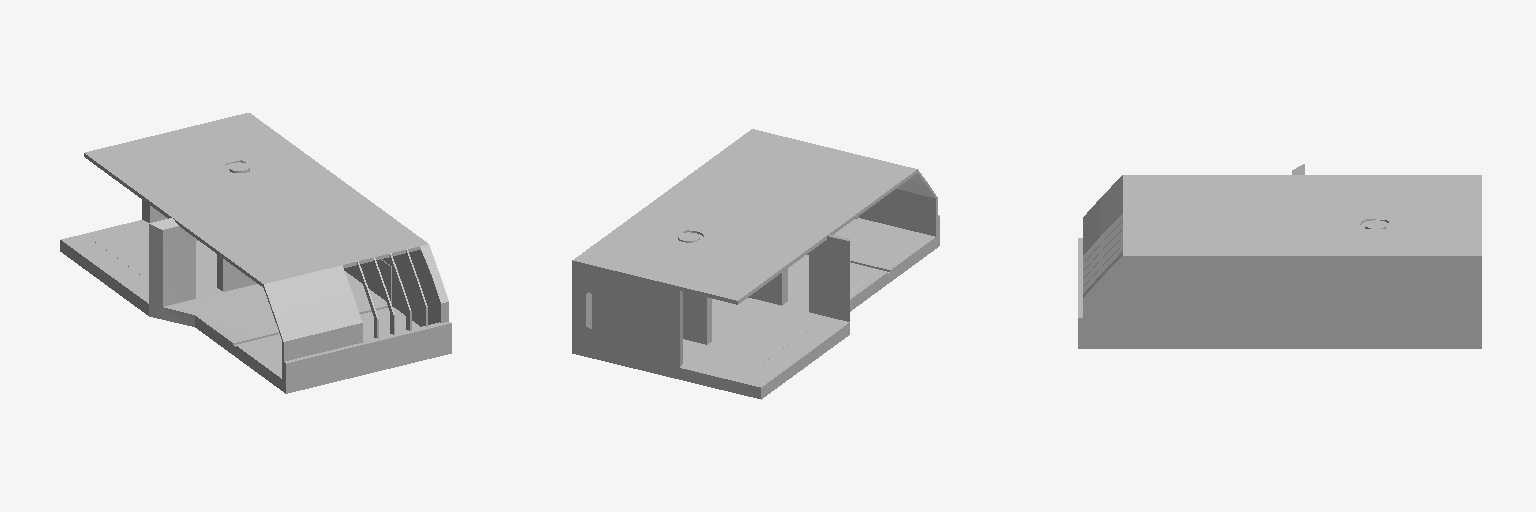
Rendered from Rooms_Kitchen.obj.
3 views of the same model, side by side, from view 1: azimuth 30°, elevation 25°; view 2: azimuth 150°, elevation 25°; view 3: azimuth 270°, elevation 25° (orthographic).
Visible parts, largest first — view 1: default; view 2: default; view 3: default.
Boxes of the visible parts, box(x1,y1,x2,y2) form: default: box(60, 113, 451, 393); default: box(572, 129, 939, 399); default: box(1078, 164, 1481, 348).
Size of the model in its own units: 141 by 66.41 by 261.